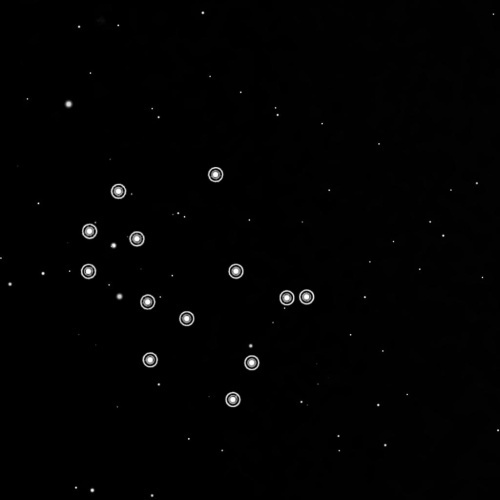gemini: (69, 157, 319, 414)
